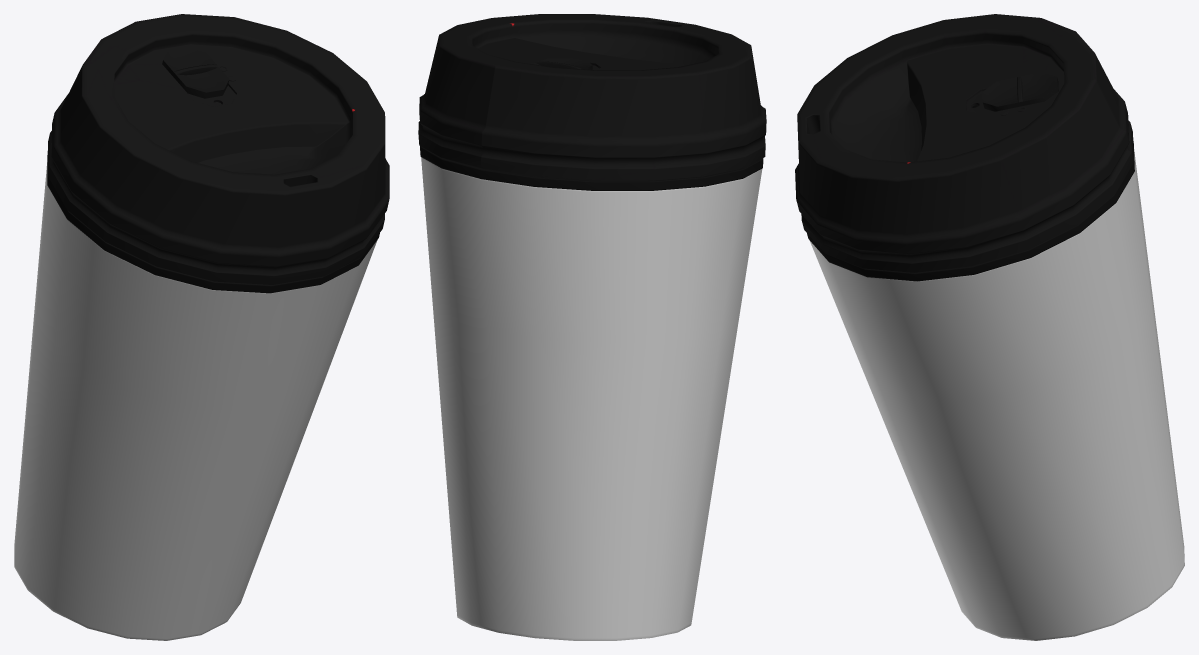
The model's file is StrBucks.fbx.
3 views of the same model, side by side, from view 1: azimuth 30°, elevation 25°; view 2: azimuth 150°, elevation 25°; view 3: azimuth 270°, elevation 25° (orthographic). The views are drawn at different scales.
Parts seen in each view (by area): view 1: node_id5 (×2), node_id6, node_id4; view 2: node_id5 (×2), node_id6, node_id4; view 3: node_id5 (×2), node_id6, node_id4.
Part boxes in pixels (x1,y1,x2,y2): node_id5 (×2): (14, 155, 379, 640); node_id6: (47, 14, 389, 284); node_id4: (162, 46, 229, 105); node_id5 (×2): (420, 146, 763, 640); node_id6: (418, 14, 766, 179); node_id4: (532, 58, 592, 69); node_id5 (×2): (807, 105, 1184, 640); node_id6: (795, 14, 1133, 272); node_id4: (975, 72, 1058, 111).
Size of the model in its own units: 0.5147 by 0.9205 by 0.581.
Materials: 6 (1 with a texture image).
